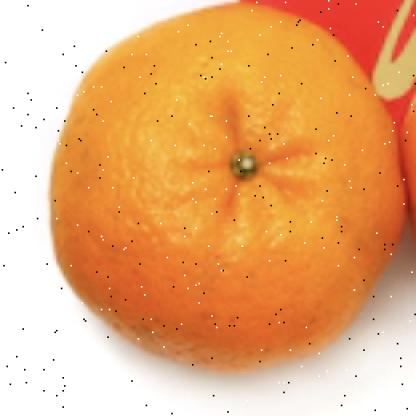fresh: (51, 11, 407, 366)
